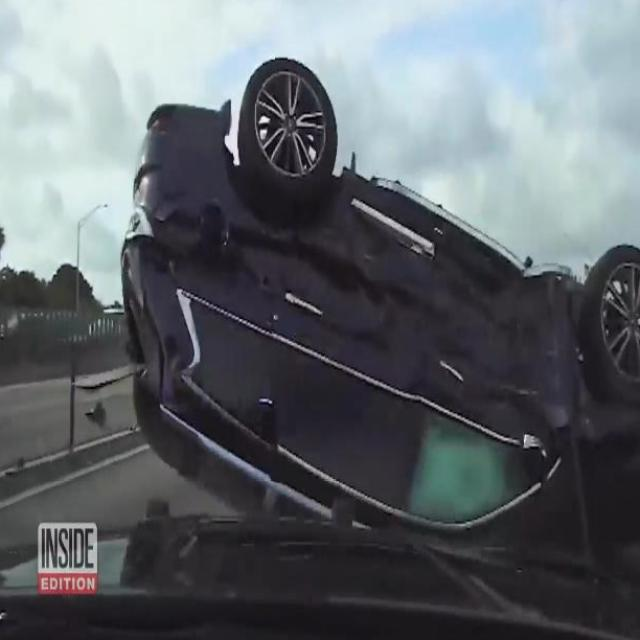accident: (111, 51, 640, 561)
